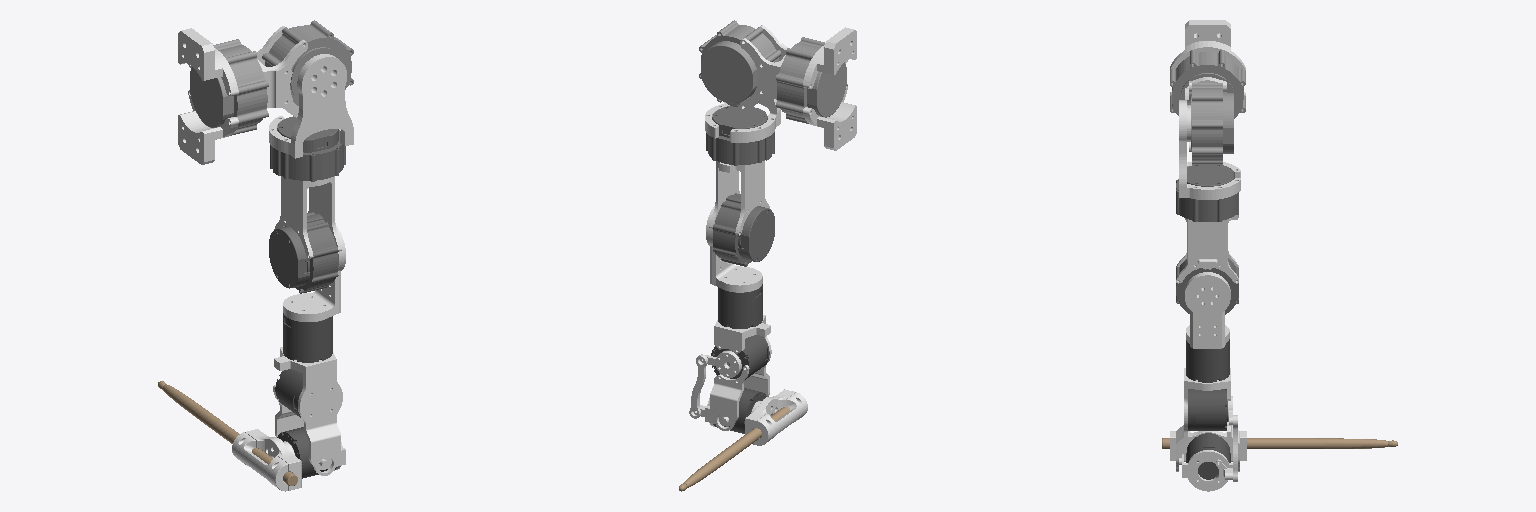
URDF robot description (dynamics_sim_arm):
<robot name="dynamics_sim_arm">
    <!-- Prepared by scripts/prepare_dynamics_sim_arm.py; do not hand-edit, re-run it after re-exporting. --><link name="base">
        <inertial>
            <mass value="0.140801" />
            <origin xyz="-0.0448341 -1.42906e-13 0.948893" rpy="0 -0 0" />
            <inertia ixx="8.74338e-05" ixy="0" ixz="-1.16355e-05" iyy="3.99293e-05" iyz="0" izz="7.78364e-05" />
        </inertial>
        <visual>
            <origin xyz="0 0 0" rpy="0 -0 0" />
            <geometry>
                <mesh filename="package://dynamics_sim_arm/meshes/Base.stl" scale="1 1 1" />
            </geometry>
            <material name="0.901961_0.901961_0.901961_0.000000_0.000000">
                <color rgba="0.901961 0.901961 0.901961 1" />
            </material>
        </visual>
    </link>
    <link name="base_1">
        <inertial>
            <mass value="0.140801" />
            <origin xyz="-0.0148341 -1.74594e-15 -0.00677872" rpy="0 -0 0" />
            <inertia ixx="8.74338e-05" ixy="0" ixz="-1.16355e-05" iyy="3.99293e-05" iyz="0" izz="7.78364e-05" />
        </inertial>
        <visual>
            <origin xyz="0.03 1.4116e-13 -0.955672" rpy="0 -0 0" />
            <geometry>
                <mesh filename="package://dynamics_sim_arm/meshes/Base.stl" scale="1 1 1" />
            </geometry>
            <material name="0.901961_0.901961_0.901961_0.000000_0.000000">
                <color rgba="0.901961 0.901961 0.901961 1" />
            </material>
        </visual>
    </link>
    <link name="base_2">
        <inertial>
            <mass value="0.0683507" />
            <origin xyz="-0.0156929 -2.64651e-09 1.77369e-08" rpy="0 -0 0" />
            <inertia ixx="6.15625e-05" ixy="1.24441e-11" ixz="4.82587e-12" iyy="1.15703e-05" iyz="3.59539e-12" izz="5.49918e-05" />
        </inertial>
        <visual>
            <origin xyz="-0.028239 -0.0947801 -0.163117" rpy="0 -0 0" />
            <geometry>
                <mesh filename="package://dynamics_sim_arm/meshes/Base_1.stl" scale="1 1 1" />
            </geometry>
            <material name="0.917647_0.917647_0.917647_0.000000_0.000000">
                <color rgba="0.917647 0.917647 0.917647 1" />
            </material>
        </visual>
    </link>
    <link name="drumstick">
        <inertial>
            <mass value="0.0192812" />
            <origin xyz="6.07103e-10 0.0142285 0.163117" rpy="0 -0 0" />
            <inertia ixx="0.000130572" ixy="1.8013e-12" ixz="3.14842e-14" iyy="4.81183e-07" iyz="1.42768e-11" izz="0.000130572" />
        </inertial>
        <visual>
            <origin xyz="0 0 0" rpy="0 -0 0" />
            <geometry>
                <mesh filename="package://dynamics_sim_arm/meshes/Drumstick.stl" scale="1 1 1" />
            </geometry>
            <material name="0.721569_0.627451_0.517647_0.000000_0.000000">
                <color rgba="0.721569 0.627451 0.517647 1" />
            </material>
        </visual>
    </link>
    <link name="l1">
        <inertial>
            <mass value="0.152904" />
            <origin xyz="0.0180704 -0.00246529 -0.00173034" rpy="0 -0 0" />
            <inertia ixx="0.000120404" ixy="3.66989e-06" ixz="-3.45804e-06" iyy="0.000106839" iyz="6.52449e-07" izz="9.3942e-05" />
        </inertial>
        <visual>
            <origin xyz="-0.02225 -2.94903e-17 1.73472e-18" rpy="0 -0 0" />
            <geometry>
                <mesh filename="package://dynamics_sim_arm/meshes/L1.stl" scale="1 1 1" />
            </geometry>
            <material name="0.901961_0.901961_0.901961_0.000000_0.000000">
                <color rgba="0.901961 0.901961 0.901961 1" />
            </material>
        </visual>
    </link>
    <link name="l2">
        <inertial>
            <mass value="0.227455" />
            <origin xyz="9.93077e-09 -0.00115735 -0.0380111" rpy="0 -0 0" />
            <inertia ixx="0.000388601" ixy="1.1959e-10" ixz="-4.89954e-12" iyy="0.000415518" iyz="-9.54453e-05" izz="0.000222336" />
        </inertial>
        <visual>
            <origin xyz="-2.30545e-17 -0.02225 -0.0885" rpy="0 -0 0" />
            <geometry>
                <mesh filename="package://dynamics_sim_arm/meshes/L2.stl" scale="1 1 1" />
            </geometry>
            <material name="0.901961_0.901961_0.901961_0.000000_0.000000">
                <color rgba="0.901961 0.901961 0.901961 1" />
            </material>
        </visual>
    </link>
    <link name="l3">
        <inertial>
            <mass value="0.169453" />
            <origin xyz="0.000490682 0.000924285 -0.0308268" rpy="0 -0 0" />
            <inertia ixx="0.000170769" ixy="7.68379e-08" ixz="2.92444e-06" iyy="0.000165389" iyz="-3.88842e-06" izz="9.99981e-05" />
        </inertial>
        <visual>
            <origin xyz="-0.1 0 0.122" rpy="0 -0 0" />
            <geometry>
                <mesh filename="package://dynamics_sim_arm/meshes/L3.stl" scale="1 1 1" />
            </geometry>
            <material name="0.901961_0.901961_0.901961_0.000000_0.000000">
                <color rgba="0.901961 0.901961 0.901961 1" />
            </material>
        </visual>
    </link>
    <link name="l4">
        <inertial>
            <mass value="0.207209" />
            <origin xyz="4.9217e-09 0.000286566 -0.0353857" rpy="0 -0 0" />
            <inertia ixx="0.000276566" ixy="5.70471e-12" ixz="2.38467e-11" iyy="0.000268462" iyz="-6.1386e-05" izz="9.07247e-05" />
        </inertial>
        <visual>
            <origin xyz="-5.15365e-19 -5.20417e-18 -1.1328e-18" rpy="0 -0 0" />
            <geometry>
                <mesh filename="package://dynamics_sim_arm/meshes/L4.stl" scale="1 1 1" />
            </geometry>
            <material name="0.901961_0.901961_0.901961_0.000000_0.000000">
                <color rgba="0.901961 0.901961 0.901961 1" />
            </material>
        </visual>
    </link>
    <link name="l5">
        <inertial>
            <mass value="0.167064" />
            <origin xyz="-0.00112788 -0.0113395 -0.0321089" rpy="0 -0 0" />
            <inertia ixx="0.000295245" ixy="2.13667e-06" ixz="4.91963e-06" iyy="0.000252965" iyz="-8.74088e-05" izz="0.000117043" />
        </inertial>
        <visual>
            <origin xyz="1.87025e-18 3.81639e-17 -0.001" rpy="0 -0 0" />
            <geometry>
                <mesh filename="package://dynamics_sim_arm/meshes/L5.stl" scale="1 1 1" />
            </geometry>
            <material name="0.901961_0.901961_0.901961_0.000000_0.000000">
                <color rgba="0.901961 0.901961 0.901961 1" />
            </material>
        </visual>
    </link>
    <link name="l5_2">
        <inertial>
            <mass value="0.0332891" />
            <origin xyz="-0.00154583 0.0348738 -0.0934346" rpy="0 -0 0" />
            <inertia ixx="1.20583e-05" ixy="-3.5372e-07" ixz="1.79455e-06" iyy="1.63548e-05" iyz="2.50844e-06" izz="6.05474e-06" />
        </inertial>
        <visual>
            <origin xyz="0 0 0" rpy="0 -0 0" />
            <geometry>
                <mesh filename="package://dynamics_sim_arm/meshes/L5_2.stl" scale="1 1 1" />
            </geometry>
            <material name="0.901961_0.901961_0.901961_0.000000_0.000000">
                <color rgba="0.901961 0.901961 0.901961 1" />
            </material>
        </visual>
    </link>
    <link name="l6">
        <inertial>
            <mass value="0.0429841" />
            <origin xyz="0.0214774 0.000999909639155 -3.78099570341e-15" rpy="0 0 0" />
            <inertia ixx="3.25395e-05" ixy="0" ixz="0" iyy="1.22062e-05" iyz="0" izz="3.08345e-05" />
        </inertial>
        <visual>
            <origin xyz="0.0256 0.000999909639155 6.52704304195e-16" rpy="0 0 0" />
            <geometry>
                <mesh filename="package://dynamics_sim_arm/meshes/L6.stl" scale="1 1 1" />
            </geometry>
            <material name="0.901961_0.901961_0.901961_0.000000_0.000000">
                <color rgba="0.901961 0.901961 0.901961 1" />
            </material>
        </visual>
    </link>
    <link name="lever">
        <inertial>
            <mass value="0.0125102" />
            <origin xyz="0.00560053 0.003 -0.036973" rpy="0 -0 0" />
            <inertia ixx="7.83356e-06" ixy="0" ixz="1.41669e-06" iyy="8.21506e-06" iyz="0" izz="4.56559e-07" />
        </inertial>
        <visual>
            <origin xyz="-0.035318 -0.0071 1.11836e-17" rpy="0 -0 0" />
            <geometry>
                <mesh filename="package://dynamics_sim_arm/meshes/lever.stl" scale="1 1 1" />
            </geometry>
            <material name="0.901961_0.901961_0.901961_0.000000_0.000000">
                <color rgba="0.901961 0.901961 0.901961 1" />
            </material>
        </visual>
    </link>
    <link name="lever_to_l5">
        <inertial>
            <mass value="0.0177099" />
            <origin xyz="0.00492789 0.00338904 8.11188e-15" rpy="0 -0 0" />
            <inertia ixx="1.25136e-06" ixy="-3.58658e-08" ixz="0" iyy="4.46641e-06" iyz="0" izz="3.33851e-06" />
        </inertial>
        <visual>
            <origin xyz="5.55112e-18 0.001 -6.93889e-18" rpy="0 -0 0" />
            <geometry>
                <mesh filename="package://dynamics_sim_arm/meshes/lever_to_L5.stl" scale="1 1 1" />
            </geometry>
            <material name="0.901961_0.901961_0.901961_0.000000_0.000000">
                <color rgba="0.901961 0.901961 0.901961 1" />
            </material>
        </visual>
    </link>
    <link name="lever_to_l6">
        <inertial>
            <mass value="0.00809533" />
            <origin xyz="0.0060864 0.0228845 0.000141127" rpy="0 -0 0" />
            <inertia ixx="5.90828e-07" ixy="-1.31742e-07" ixz="1.62452e-09" iyy="5.15536e-07" iyz="-3.05474e-09" izz="5.20805e-07" />
        </inertial>
        <visual>
            <origin xyz="-0.0323304 0.0259 0.0742705" rpy="0 -0 0" />
            <geometry>
                <mesh filename="package://dynamics_sim_arm/meshes/lever_to_L6.stl" scale="1 1 1" />
            </geometry>
            <material name="0.901961_0.901961_0.901961_0.000000_0.000000">
                <color rgba="0.901961 0.901961 0.901961 1" />
            </material>
        </visual>
    </link>
    <link name="root" />
    <link name="rs00">
        <inertial>
            <mass value="0.31" />
            <origin xyz="-2.64946e-10 3.45704e-07 -0.0252887" rpy="0 -0 0" />
            <inertia ixx="0.000128946117522" ixy="1.38310246427e-08" ixz="0" iyy="0.000128254901961" iyz="-1.96536432436e-09" izz="0.000125912718516" />
        </inertial>
        <visual>
            <origin xyz="-3.46945e-16 3.40006e-16 -0.0256" rpy="0 -0 0" />
            <geometry>
                <mesh filename="package://dynamics_sim_arm/meshes/RS00.stl" scale="1 1 1" />
            </geometry>
            <material name="0.400000_0.400000_0.400000_0.000000_0.000000">
                <color rgba="0.4 0.4 0.4 1" />
            </material>
        </visual>
    </link>
    <link name="rs00_1">
        <inertial>
            <mass value="0.31" />
            <origin xyz="-2.64946e-10 3.45704e-07 -0.0252887" rpy="0 -0 0" />
            <inertia ixx="0.000128946117522" ixy="1.38310246427e-08" ixz="0" iyy="0.000128254901961" iyz="-1.96536432436e-09" izz="0.000125912718516" />
        </inertial>
        <visual>
            <origin xyz="-3.46945e-16 3.40006e-16 -0.0256" rpy="0 -0 0" />
            <geometry>
                <mesh filename="package://dynamics_sim_arm/meshes/RS00.stl" scale="1 1 1" />
            </geometry>
            <material name="0.400000_0.400000_0.400000_0.000000_0.000000">
                <color rgba="0.4 0.4 0.4 1" />
            </material>
        </visual>
    </link>
    <link name="rs00_2">
        <inertial>
            <mass value="0.31" />
            <origin xyz="-2.64945e-10 3.45704e-07 0.00031134" rpy="0 -0 0" />
            <inertia ixx="0.000128946117522" ixy="1.38310246427e-08" ixz="0" iyy="0.000128254901961" iyz="-1.96536432436e-09" izz="0.000125912718516" />
        </inertial>
        <visual>
            <origin xyz="0 0 0" rpy="0 -0 0" />
            <geometry>
                <mesh filename="package://dynamics_sim_arm/meshes/RS00.stl" scale="1 1 1" />
            </geometry>
            <material name="0.400000_0.400000_0.400000_0.000000_0.000000">
                <color rgba="0.4 0.4 0.4 1" />
            </material>
        </visual>
    </link>
    <link name="rs03">
        <inertial>
            <mass value="0.88" />
            <origin xyz="0.000326919 -1.22904e-10 -0.0158262" rpy="0 -0 0" />
            <inertia ixx="0.000705512004086" ixy="0" ixz="1.128829559e-06" iyy="0.000722304784608" iyz="0" izz="0.00102189409161" />
        </inertial>
        <visual>
            <origin xyz="0 0 -0.0395" rpy="0 -0 0" />
            <geometry>
                <mesh filename="package://dynamics_sim_arm/meshes/RS03.stl" scale="1 1 1" />
            </geometry>
            <material name="0.647059_0.647059_0.647059_0.000000_0.000000">
                <color rgba="0.647059 0.647059 0.647059 1" />
            </material>
        </visual>
    </link>
    <link name="rs03_1">
        <inertial>
            <mass value="0.88" />
            <origin xyz="0.000326919 -1.22904e-10 -0.0158262" rpy="0 -0 0" />
            <inertia ixx="0.000705512004086" ixy="0" ixz="1.128829559e-06" iyy="0.000722304784608" iyz="0" izz="0.00102189409161" />
        </inertial>
        <visual>
            <origin xyz="0 0 -0.0395" rpy="0 -0 0" />
            <geometry>
                <mesh filename="package://dynamics_sim_arm/meshes/RS03.stl" scale="1 1 1" />
            </geometry>
            <material name="0.647059_0.647059_0.647059_0.000000_0.000000">
                <color rgba="0.647059 0.647059 0.647059 1" />
            </material>
        </visual>
    </link>
    <link name="rs06">
        <inertial>
            <mass value="0.621" />
            <origin xyz="-0.000202884 -4.03172e-07 -0.0102731" rpy="0 -0 0" />
            <inertia ixx="0.000359101165798" ixy="-3.18123584672e-10" ixz="-7.69392418329e-07" iyy="0.00036944903982" iyz="3.93146322139e-10" izz="0.000497356572444" />
        </inertial>
        <visual>
            <origin xyz="0 0 -0.033" rpy="0 -0 0" />
            <geometry>
                <mesh filename="package://dynamics_sim_arm/meshes/RS06.stl" scale="1 1 1" />
            </geometry>
            <material name="0.501961_0.501961_0.501961_0.000000_0.000000">
                <color rgba="0.501961 0.501961 0.501961 1" />
            </material>
        </visual>
    </link>
    <link name="rs06_1">
        <inertial>
            <mass value="0.621" />
            <origin xyz="-0.000202884 -4.03172e-07 -0.0102731" rpy="0 -0 0" />
            <inertia ixx="0.000359101165798" ixy="-3.18123584672e-10" ixz="-7.69392418329e-07" iyy="0.00036944903982" iyz="3.93146322139e-10" izz="0.000497356572444" />
        </inertial>
        <visual>
            <origin xyz="0 0 -0.033" rpy="0 -0 0" />
            <geometry>
                <mesh filename="package://dynamics_sim_arm/meshes/RS06.stl" scale="1 1 1" />
            </geometry>
            <material name="0.501961_0.501961_0.501961_0.000000_0.000000">
                <color rgba="0.501961 0.501961 0.501961 1" />
            </material>
        </visual>
    </link>
    <link name="screwon">
        <inertial>
            <mass value="0.0296989" />
            <origin xyz="-0.00948618 0.0947801 0.163117" rpy="0 -0 0" />
            <inertia ixx="3.55583e-05" ixy="2.82141e-12" ixz="7.24253e-12" iyy="2.44555e-06" iyz="-1.11151e-11" izz="3.42635e-05" />
        </inertial>
        <visual>
            <origin xyz="0 0 0" rpy="0 -0 0" />
            <geometry>
                <mesh filename="package://dynamics_sim_arm/meshes/ScrewOn.stl" scale="1 1 1" />
            </geometry>
            <material name="0.917647_0.917647_0.917647_0.000000_0.000000">
                <color rgba="0.917647 0.917647 0.917647 1" />
            </material>
        </visual>
    </link>
    <joint name="base_j1" type="fixed">
        <origin xyz="-0.0346 8.0196e-15 -0.0556719" rpy="0 -1.5708 3.14159" />
        <axis xyz="0 0 1" />
        <parent link="base_1" />
        <child link="rs03" />
    </joint>
    <joint name="basegroup_fastened_joint" type="fixed">
        <origin xyz="0.03 -1.25541e-13 0.844328" rpy="-3.14159 3.94309e-28 -6.50986e-15" />
        <axis xyz="0 0 1" />
        <parent link="base_1" />
        <child link="base" />
    </joint>
    <joint name="body_base" type="fixed">
        <origin xyz="0 0 0" rpy="3.14159 -2.54126e-76 3.14159" />
        <axis xyz="1 0 0" />
        <parent link="root" />
        <child link="base_1" />
    </joint>
    <joint name="endeffgroup_fastened_joint" type="fixed">
        <origin xyz="-0.028239 -0.0947801 -0.163117" rpy="5.04871e-29 4.59585e-61 -1.82061e-32" />
        <axis xyz="-0 -0 -1" />
        <parent link="base_2" />
        <child link="screwon" />
    </joint>
    <joint name="endeffgroup_fastened_joint_1" type="fixed">
        <origin xyz="-1.38778e-17 0 5.55112e-17" rpy="5.04871e-29 4.59585e-61 -1.82061e-32" />
        <axis xyz="-0 -0 -1" />
        <parent link="screwon" />
        <child link="drumstick" />
    </joint>
    <joint name="fastened_1" type="fixed">
        <origin xyz="0.0306 0.000999909639155 2.77604313414e-16" rpy="7.80140999804e-14 0.0231831 -2.406209998e-15" />
        <axis xyz="-0.999731 -1.80713e-15 -0.0231811" />
        <parent link="l6" />
        <child link="lever_to_l6" />
    </joint>
    <joint name="j1_l1" type="revolute">
        <origin xyz="-6.93889e-18 9.40709e-19 -0.042" rpy="0 1.5708 3.14159" />
        <axis xyz="-1 0 0" />
        <parent link="rs03" />
        <child link="l1" />
        <limit effort="60" velocity="20.420352" lower="-2.37365" upper="2.37365" />
    </joint>
    <joint name="j2_l2" type="revolute">
        <origin xyz="-4.16334e-16 -2.77556e-17 -0.042" rpy="-1.5708 5.55112e-16 1.5708" />
        <axis xyz="-2.46323e-16 -1 -2.77556e-17" />
        <parent link="rs03_1" />
        <child link="l2" />
        <limit effort="60" velocity="20.420352" lower="-3.54302" upper="0.401426" />
    </joint>
    <joint name="j3_l3" type="revolute">
        <origin xyz="5.55112e-17 1.75196e-16 -0.0345" rpy="-2.52149e-16 1.9082e-16 4.85723e-17" />
        <axis xyz="0 0 1" />
        <parent link="rs06" />
        <child link="l3" />
        <limit effort="36" velocity="50.265482" lower="-2.34747" upper="2.34747" />
    </joint>
    <joint name="j4_l4" type="revolute">
        <origin xyz="-2.77556e-17 4.049e-18 -0.0345" rpy="-1.5708 -7.10543e-15 1.5708" />
        <axis xyz="3.88578e-15 -1 -1.45717e-15" />
        <parent link="rs06_1" />
        <child link="l4" />
        <limit effort="36" velocity="50.265482" lower="-2.35619" upper="2.35619" />
    </joint>
    <joint name="j5_l5" type="revolute">
        <origin xyz="-4.71845e-16 5.30005e-16 -0.0514" rpy="2.25601e-15 3.19189e-16 -1.95156e-16" />
        <axis xyz="0 0 1" />
        <parent link="rs00" />
        <child link="l5" />
        <limit effort="14" velocity="32.986723" lower="-2.64417" upper="2.64417" />
    </joint>
    <joint name="j6_crank_bearing" type="fixed">
        <origin xyz="0.035318 0.0066 5.55111512313e-17" rpy="3.81164731091e-21 -1.12361226212e-06 1.6940637531e-21" />
        <axis xyz="5.83326e-15 -1 -2.45163e-17" />
        <parent link="lever_to_l5" />
        <child link="lever" />
    </joint>
    <joint name="j6_motor" type="fixed">
        <origin xyz="-2.77555756156e-17 1.11022302463e-16 -0.0258" rpy="-1.57079999901 -8.51549590841e-08 -0.0231848152545" />
        <axis xyz="6.93889e-15 -1 -1.40154e-30" />
        <parent link="rs00_2" />
        <child link="lever_to_l5" />
    </joint>
    <joint name="j6_swivel" type="revolute">
        <origin xyz="-6.93889390391e-16 9.03608452173e-08 -0.1242" rpy="5.96912000207e-13 2.22044604925e-16 1.89475002257e-15" />
        <axis xyz="2.44652e-15 1 -5.9715e-13" />
        <parent link="l5_2" />
        <child link="l6" />
        <limit effort="21.287" velocity="26.123390" lower="-0.500909" upper="0.500909" />
    </joint>
    <joint name="j7_endeff" type="revolute">
        <origin xyz="-1.11022e-16 3.63641e-16 -0.0514" rpy="0 -1.5708 3.14159" />
        <axis xyz="1 0 0" />
        <parent link="rs00_1" />
        <child link="base_2" />
        <limit effort="14" velocity="32.986723" lower="-3.14159" upper="3.14159" />
    </joint>
    <joint name="l1_j2" type="fixed">
        <origin xyz="0.07775 0.01975 -5.55112e-17" rpy="0 1.5708 -4.71239" />
        <axis xyz="0 0 1" />
        <parent link="l1" />
        <child link="rs03_1" />
    </joint>
    <joint name="l2_j3" type="fixed">
        <origin xyz="0 -0.02225 -0.0885" rpy="-3.47131e-17 1.17961e-16 -3.14159" />
        <axis xyz="0 0 1" />
        <parent link="l2" />
        <child link="rs06" />
    </joint>
    <joint name="l3_j4" type="fixed">
        <origin xyz="-0.0165 -3.17109e-16 -0.108" rpy="0 1.5708 -3.14159" />
        <axis xyz="0 0 1" />
        <parent link="l3" />
        <child link="rs06_1" />
    </joint>
    <joint name="l4_j5" type="fixed">
        <origin xyz="4.19264e-16 -0.018 -0.0744" rpy="-2.78816e-15 2.95469e-15 1.5708" />
        <axis xyz="0 0 1" />
        <parent link="l4" />
        <child link="rs00" />
    </joint>
    <joint name="l5_j6" type="fixed">
        <origin xyz="0.0256 0.000999909639155 8.88204304195e-16" rpy="3.14159265359 1.57079265359 3.14159265359" />
        <axis xyz="0 0 1" />
        <parent link="l6" />
        <child link="rs00_1" />
    </joint>
    <joint name="l5group_fastened_joint" type="fixed">
        <origin xyz="-5.55112e-16 0.0492 0.0001" rpy="-1.5708 -2.98025e-15 -8.22311e-14" />
        <axis xyz="-0 -0 -1" />
        <parent link="rs00_2" />
        <child link="l5_2" />
    </joint>
    <joint name="l5group_fastened_joint_1" type="fixed">
        <origin xyz="3.85803e-15 0.0001 -0.0502" rpy="1.5708 -8.54403e-14 4.49467e-15" />
        <axis xyz="-0 -0 -1" />
        <parent link="l5" />
        <child link="rs00_2" />
    </joint>
</robot>

--- Render facts (derived) ---
The picture shows the robot from 3 angles, left to right: view 1: azimuth 30°, elevation 25°; view 2: azimuth 150°, elevation 25°; view 3: azimuth 270°, elevation 25°; orthographic projection.
Model dynamics_sim_arm with 23 links and 22 joints (7 revolute, 15 fixed), rooted at root, posed all joints at 0.
Links seen in each view (by area): view 1: l2, rs03, l5, rs06_1, rs06, l3, rs03_1, rs00, base, l4, base_1, l1 (+6 smaller); view 2: rs03_1, rs03, rs06_1, rs06, l3, rs00, base, l4, l5, l1, base_1, l5_2 (+8 smaller); view 3: rs03_1, l4, rs03, l3, rs06, l2, base, drumstick, rs00_2, rs00, l6, rs00_1 (+3 smaller).
Boxes of the visible links, <box> form: l2: <box>269,54,353,158</box>; rs03: <box>190,39,268,135</box>; l5: <box>274,347,342,475</box>; rs06_1: <box>269,212,338,293</box>; rs06: <box>270,116,345,181</box>; l3: <box>274,176,341,258</box>; rs03_1: <box>262,20,353,105</box>; rs00: <box>283,313,332,362</box>; base: <box>178,28,238,95</box>; l4: <box>283,226,345,321</box>; base_1: <box>178,90,238,164</box>; l1: <box>256,26,307,117</box>; rs03_1: <box>699,20,781,106</box>; rs03: <box>776,37,846,123</box>; rs06_1: <box>713,193,774,266</box>; rs06: <box>706,105,774,165</box>; l3: <box>709,161,769,235</box>; rs00: <box>718,284,762,328</box>; base: <box>803,27,856,88</box>; l4: <box>706,206,762,292</box>; l5: <box>714,315,771,396</box>; l1: <box>740,25,787,109</box>; base_1: <box>803,84,856,150</box>; l5_2: <box>710,365,749,430</box>; rs03_1: <box>1191,83,1233,164</box>; l4: <box>1185,272,1230,348</box>; rs03: <box>1170,50,1245,118</box>; l3: <box>1176,215,1238,283</box>; rs06: <box>1176,165,1238,221</box>; l2: <box>1179,100,1240,199</box>; base: <box>1170,20,1245,69</box>; drumstick: <box>1162,438,1397,448</box>; rs00_2: <box>1188,389,1227,430</box>; rs00: <box>1186,339,1229,382</box>; l6: <box>1179,450,1232,491</box>; rs00_1: <box>1186,433,1230,479</box>.
Bounding box of the posed robot: 0.2064 × 0.3048 × 0.5855 m (x, y, z).
22 mesh visuals loaded from 17 distinct referenced files (17 binary STL).
